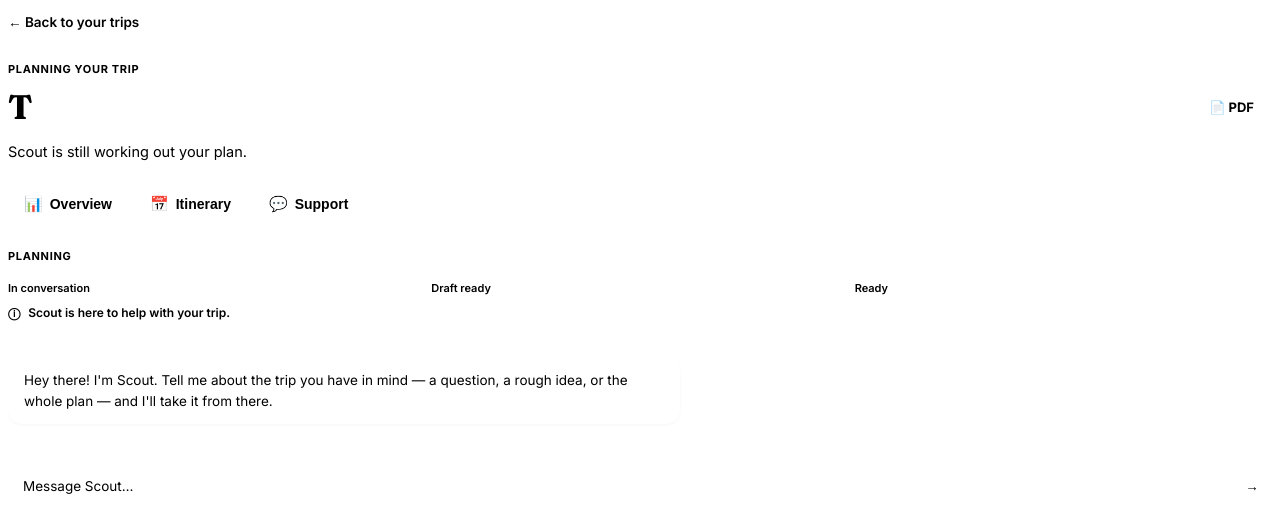
Test case: Trip Dashboard (TripView + enriched itinerary) › shows the Itinerary tab once planning starts, with its empty state before a plan exists
The width and height of the screenshot is (1273, 511).
Click the button "📅 Itinerary".
click(190, 204)  # box [134,183,247,225]
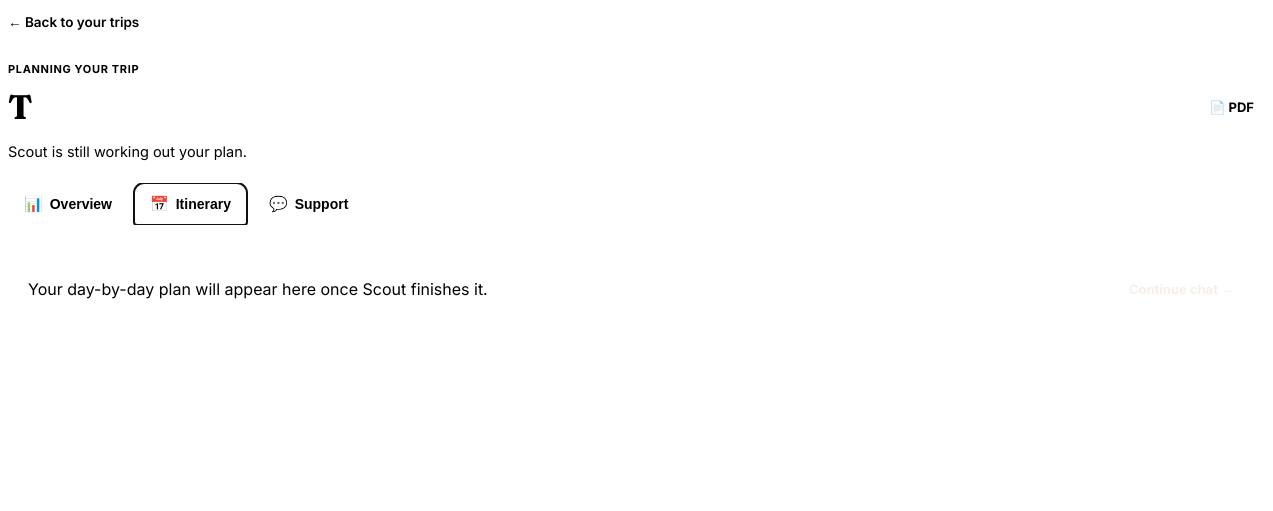
Expected: the text "Your day-by-day plan will appear here once Scout finishes it." is shown, [28,279,488,299]
